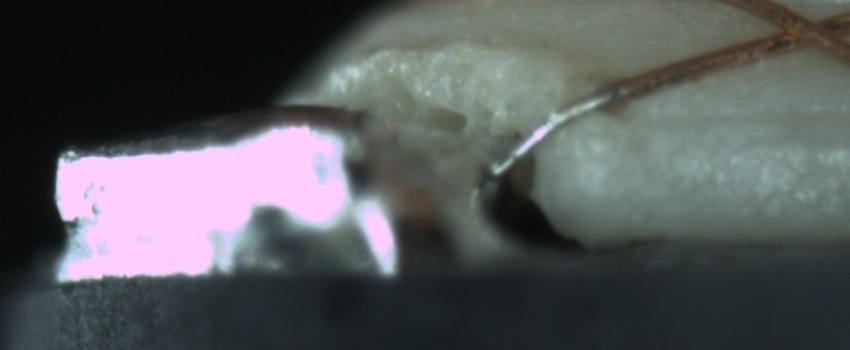CL: (757, 1, 846, 58)
DL: (623, 82, 847, 158)
TS: (493, 86, 630, 185)
